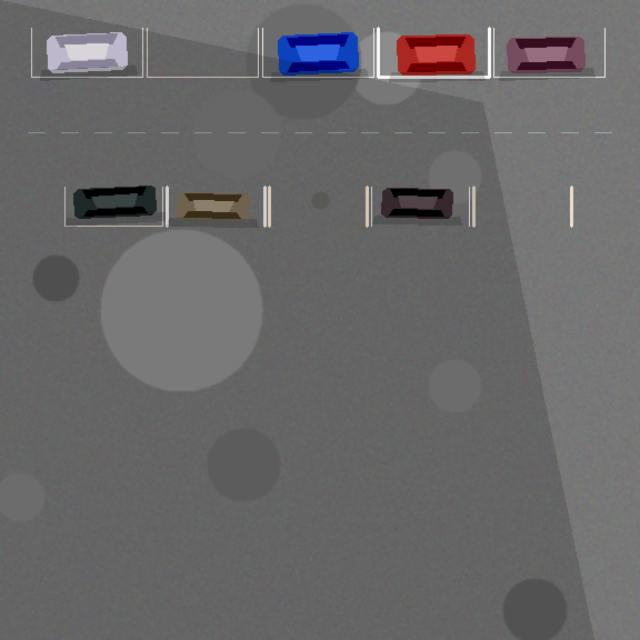space-empty: (147, 28, 258, 77), (269, 187, 367, 226), (473, 187, 571, 226)
space-occupied: (31, 28, 142, 77), (262, 28, 373, 77), (378, 28, 489, 77), (493, 28, 604, 77), (64, 187, 162, 226), (371, 187, 469, 226), (167, 187, 264, 226)
